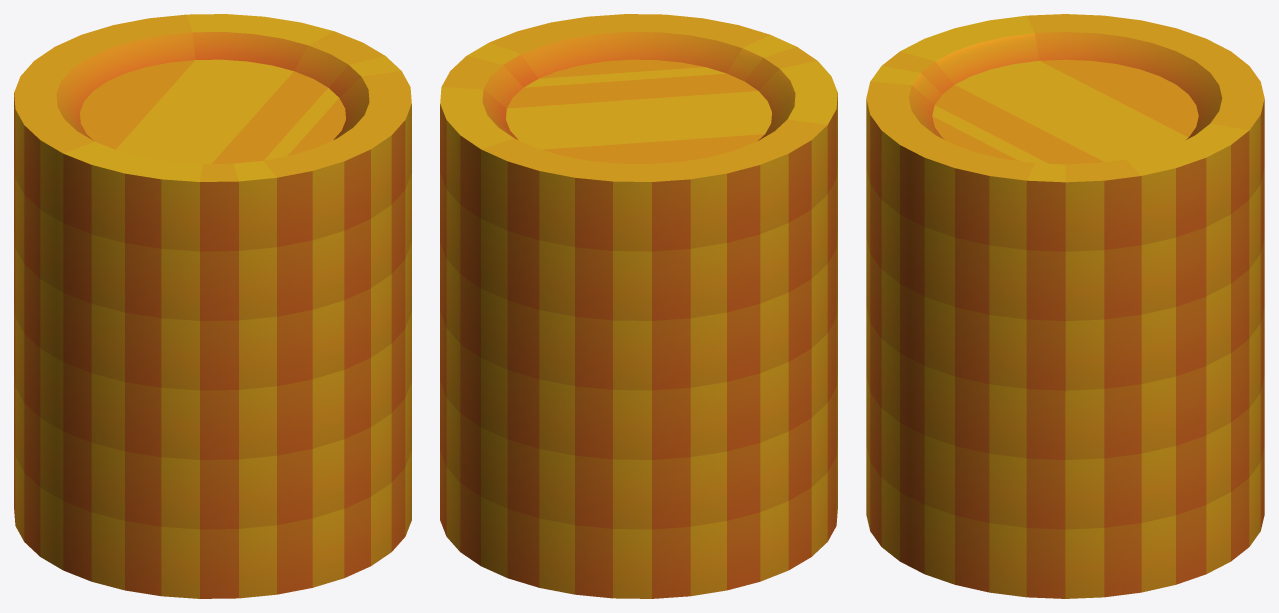
Rendered from coin_c.fbx.
The picture shows the model from 3 angles, left to right: view 1: azimuth 30°, elevation 25°; view 2: azimuth 150°, elevation 25°; view 3: azimuth 270°, elevation 25°; orthographic projection.
Visible parts, largest first — view 1: coin_stack2; view 2: coin_stack2; view 3: coin_stack2.
Part boxes in pixels (box(x1,y1,x2,y2)): coin_stack2: box(14, 14, 411, 598); coin_stack2: box(440, 14, 837, 598); coin_stack2: box(866, 14, 1264, 598).
Bounding box in the file's own units: 9.3 × 10.74 × 9.3.
